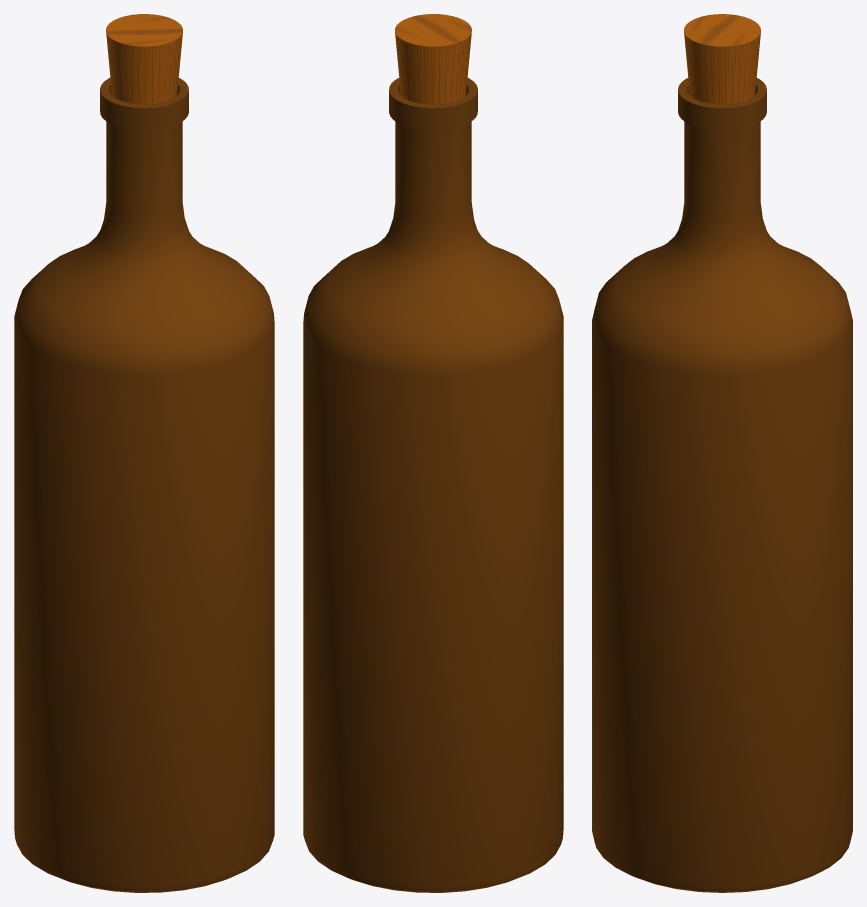
File: whiskeyBottle1.obj
3 renders of one model, left to right at view 1: azimuth 30°, elevation 25°; view 2: azimuth 150°, elevation 25°; view 3: azimuth 270°, elevation 25°, orthographic.
Parts seen in each view (by area): view 1: Cylinder, Cylinder.001; view 2: Cylinder, Cylinder.001; view 3: Cylinder, Cylinder.001.
Part boxes in pixels (<box>): Cylinder: <box>14,78,274,892</box>; Cylinder.001: <box>106,14,182,104</box>; Cylinder: <box>303,78,563,892</box>; Cylinder.001: <box>395,14,471,104</box>; Cylinder: <box>592,78,852,892</box>; Cylinder.001: <box>684,14,760,104</box>.
Bounding box in the file's own units: 2.16 × 7.46 × 2.16.
1 material, 1 textured.
